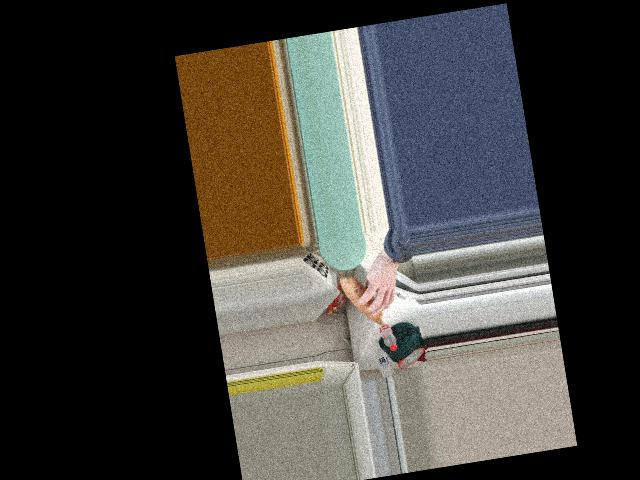sweet_potato: (341, 278, 390, 328)
